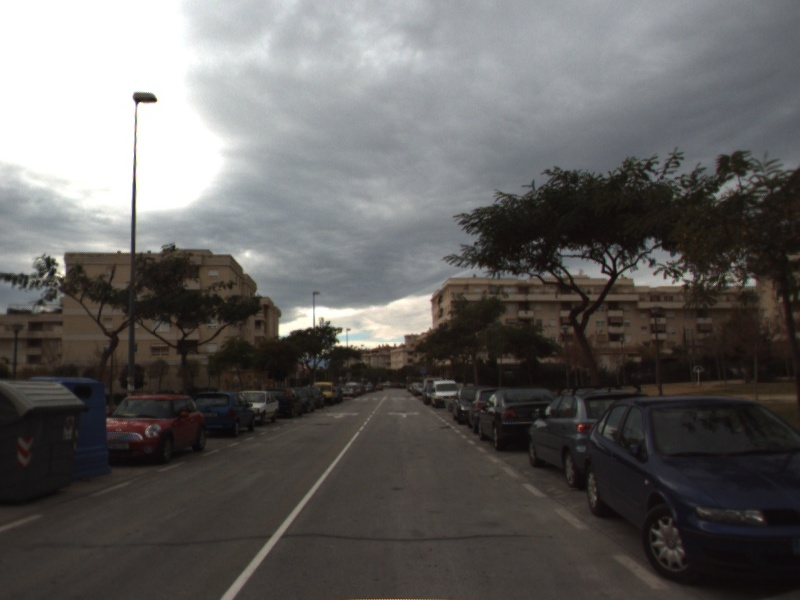LEFT_RIGHT: (385, 409, 423, 419)
